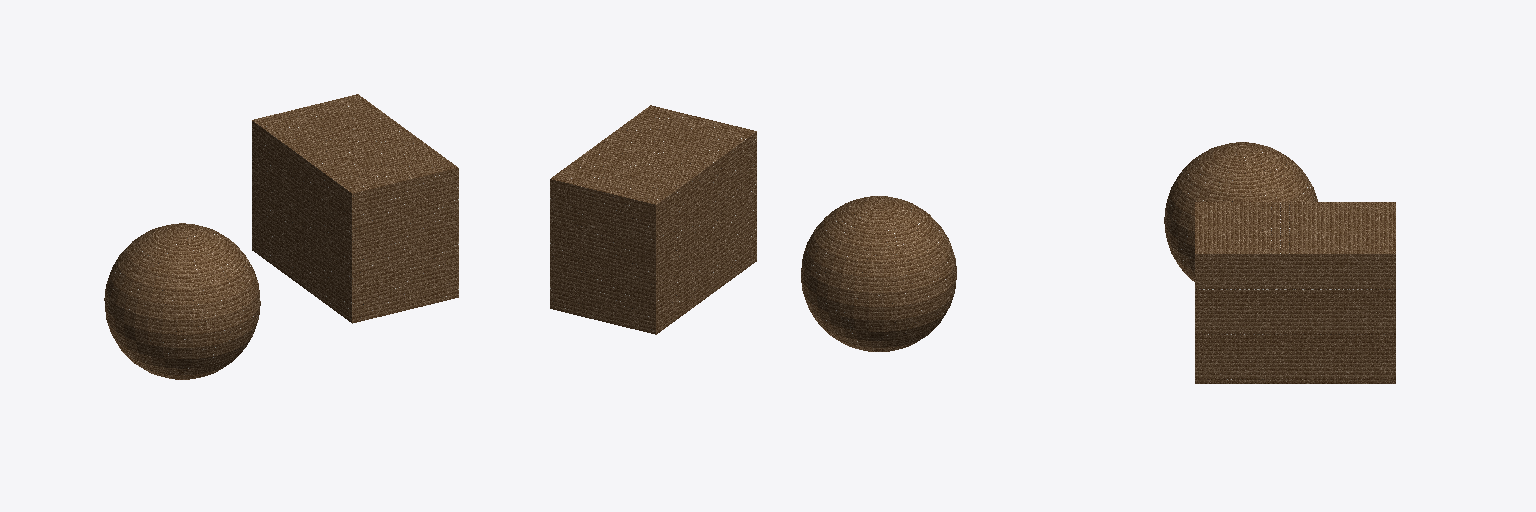
The picture shows the model from 3 angles: view 1: azimuth 30°, elevation 25°; view 2: azimuth 150°, elevation 25°; view 3: azimuth 270°, elevation 25°; orthographic projection.
Visible parts, largest first — view 1: Box001, Sphere001; view 2: Box001, Sphere001; view 3: Box001, Sphere001.
Boxes of the visible parts, box(x1,y1,x2,y2) form: Box001: box(252, 94, 458, 323); Sphere001: box(104, 223, 260, 379); Box001: box(550, 105, 756, 334); Sphere001: box(801, 196, 956, 351); Box001: box(1195, 202, 1395, 383); Sphere001: box(1164, 142, 1317, 281).
Bounding box in the file's own units: 81.9 × 39.33 × 51.36.
Materials: 1 (1 with a texture image).